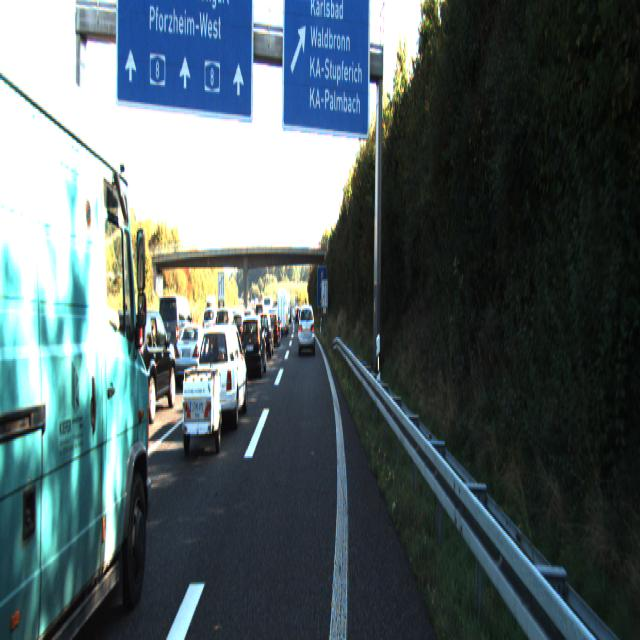Car: (0, 0, 157, 639), (108, 307, 178, 428), (194, 319, 248, 435), (177, 364, 223, 462), (157, 292, 194, 368), (172, 321, 212, 385), (238, 312, 266, 379), (253, 311, 274, 360), (298, 302, 315, 353), (276, 292, 288, 336)
